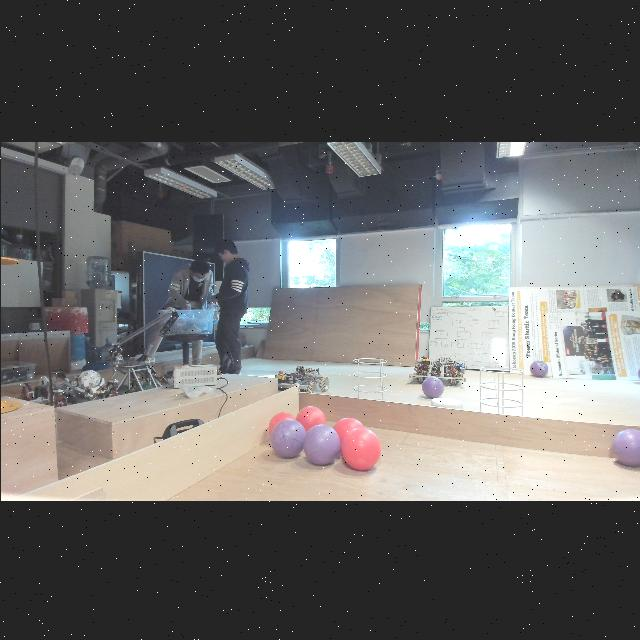P: (302, 423, 341, 465), (268, 418, 306, 458), (610, 428, 640, 466), (421, 376, 443, 396), (528, 359, 548, 376), (636, 364, 640, 382)
R: (341, 426, 381, 470), (332, 416, 364, 452), (268, 410, 298, 440), (295, 404, 325, 428)
S: (476, 364, 524, 426), (350, 356, 388, 410)
